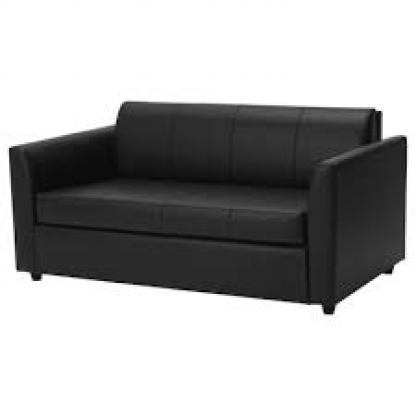sofa: (6, 102, 410, 316)
